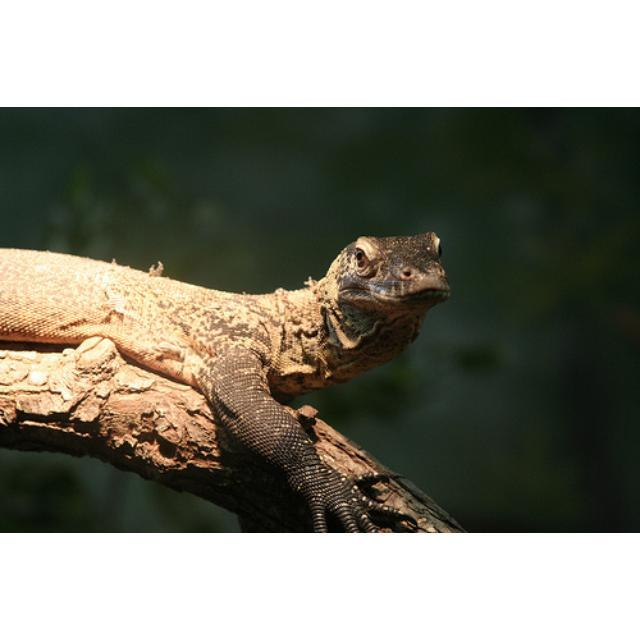KomodoDragon: (0, 228, 448, 531)
